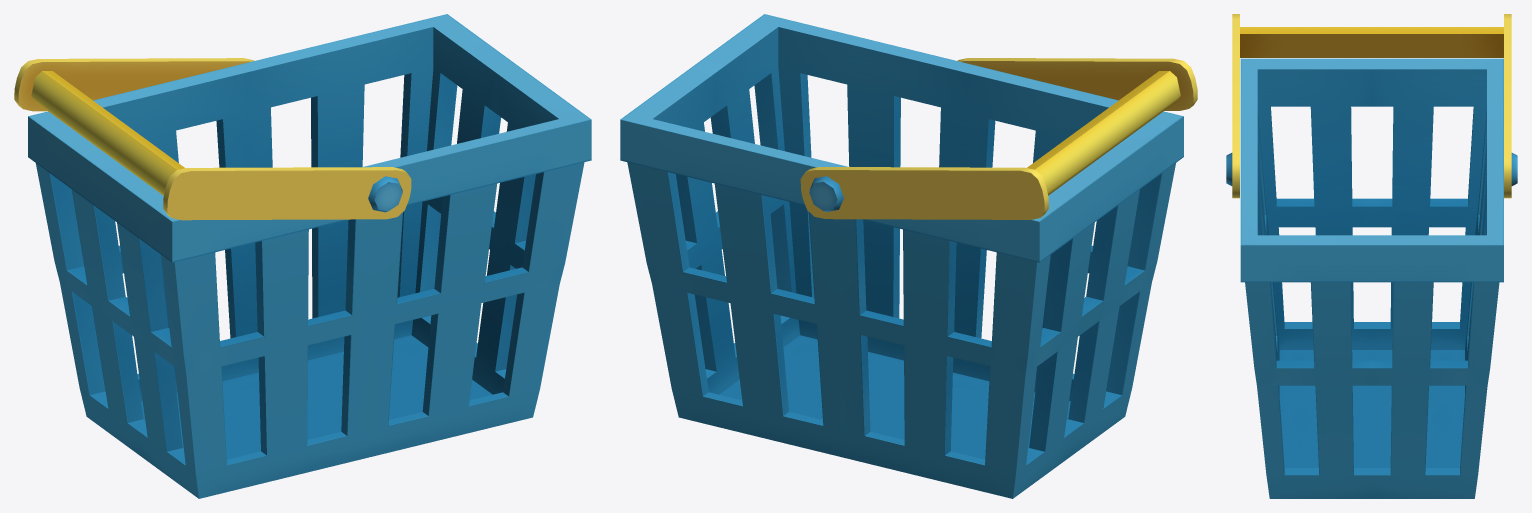
Rendered from basket.FBX.
The picture shows the model from 3 angles, left to right: view 1: azimuth 30°, elevation 25°; view 2: azimuth 150°, elevation 25°; view 3: azimuth 270°, elevation 25°; orthographic projection. The views are drawn at different scales.
Parts seen in each view (by area): view 1: basket; view 2: basket; view 3: basket.
Part boxes in pixels (bbox=[...]): basket: bbox=[14, 14, 591, 498]; basket: bbox=[620, 14, 1197, 498]; basket: bbox=[1226, 14, 1517, 498].
Size of the model in its own units: 38.92 by 30.37 by 25.09.
